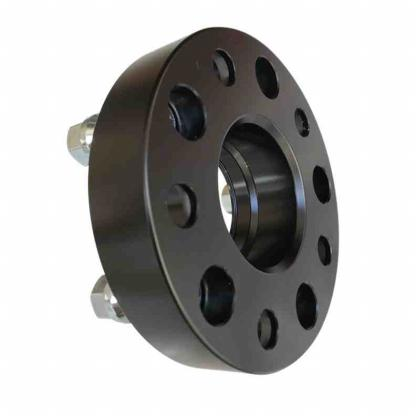FOD: (84, 23, 350, 376)
